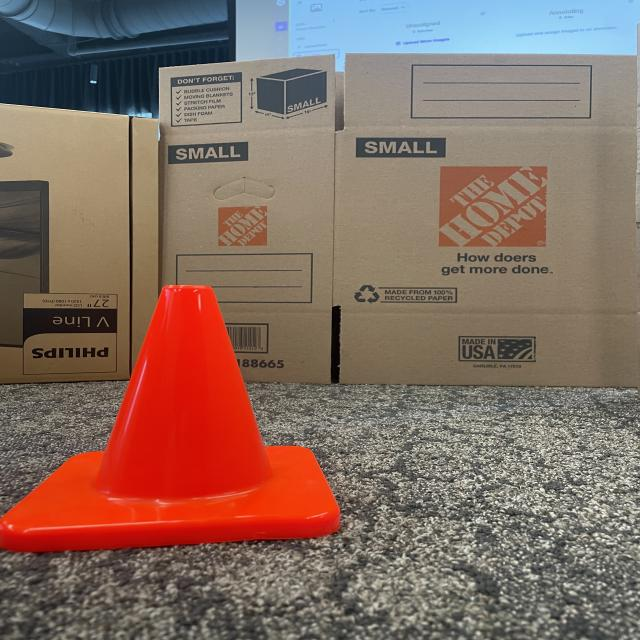Traffic Cone: (0, 276, 349, 562)
